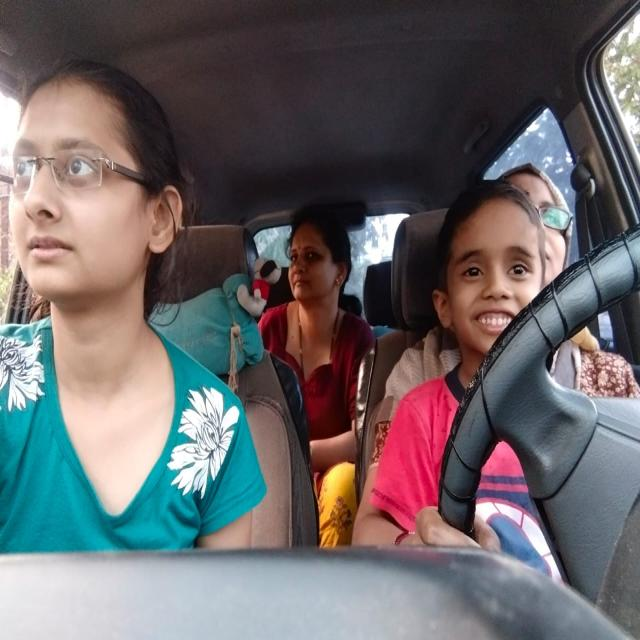child: (442, 186, 545, 347)
person: (9, 67, 181, 297), (499, 163, 576, 274), (282, 214, 353, 314)
